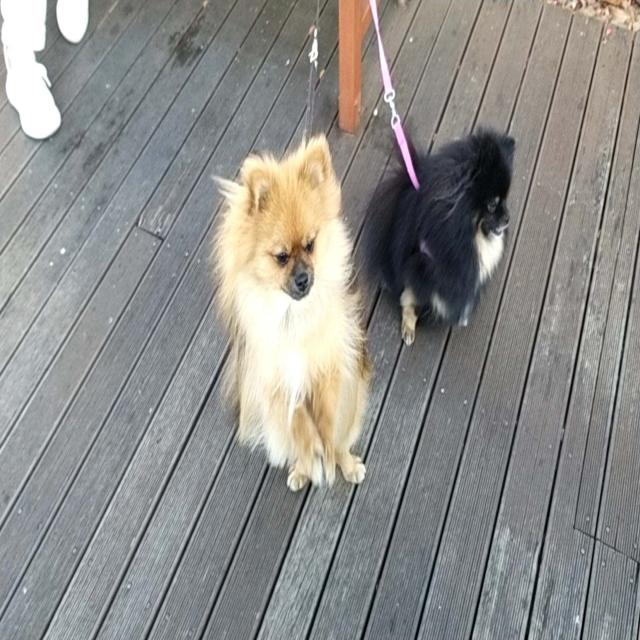Dog: (210, 130, 373, 493), (354, 122, 516, 346)
